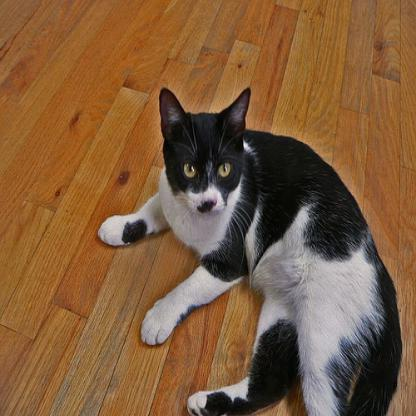cat: (116, 78, 380, 415)
